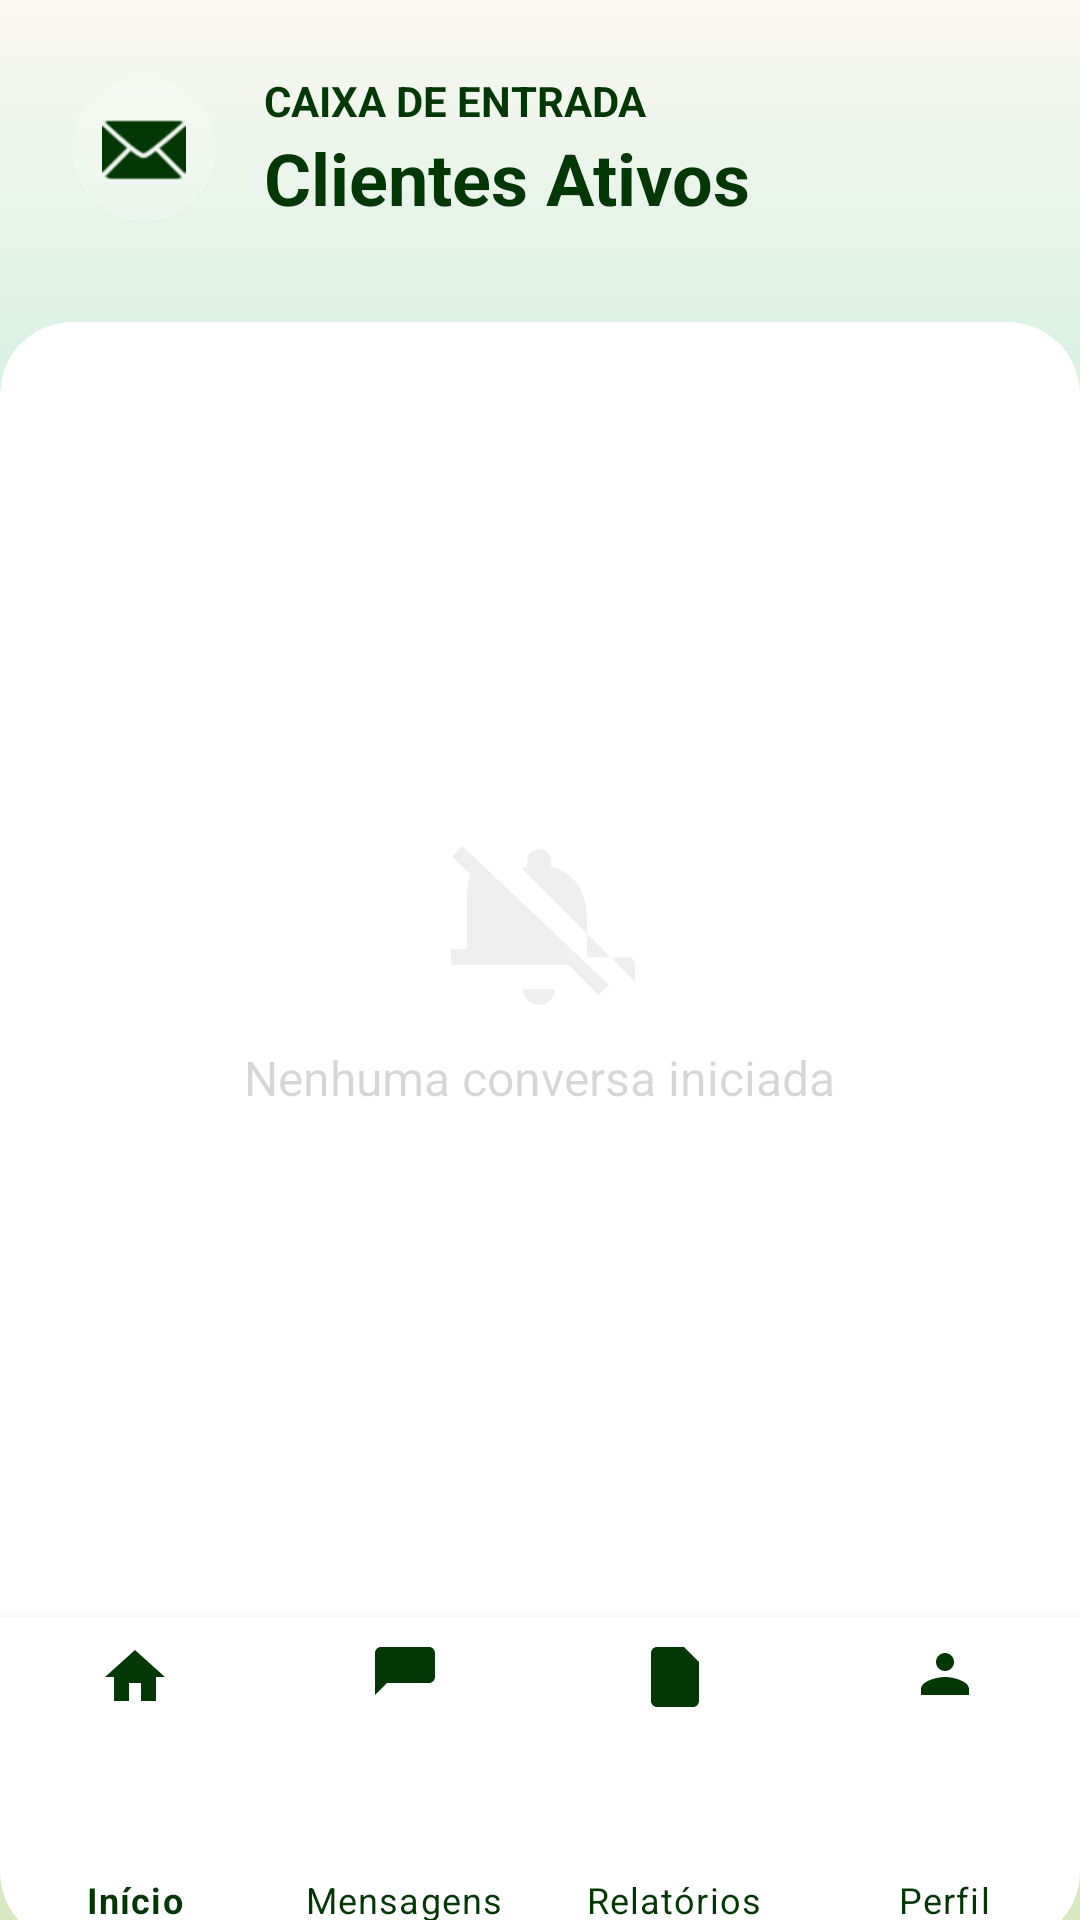

Named icons in this screenshot (1080*1920) and their centers, [x,y]:
email: [144,150]
